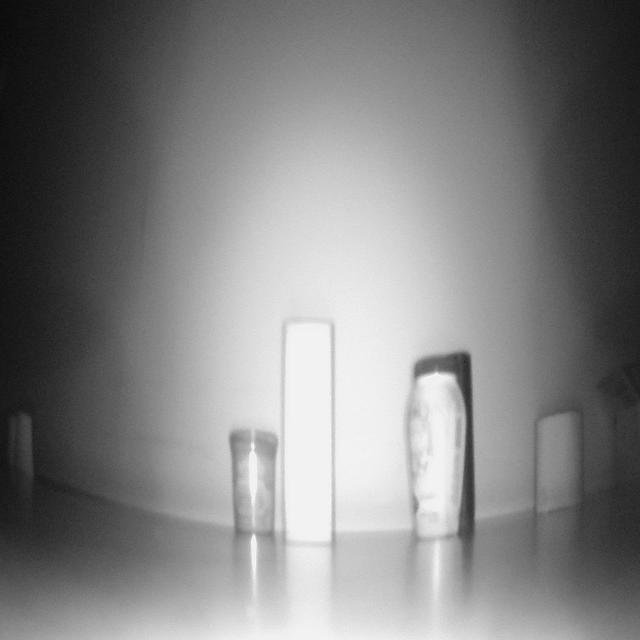targets: (284, 322, 338, 548), (408, 357, 469, 539), (229, 426, 279, 543), (532, 408, 585, 516), (8, 409, 34, 479)
